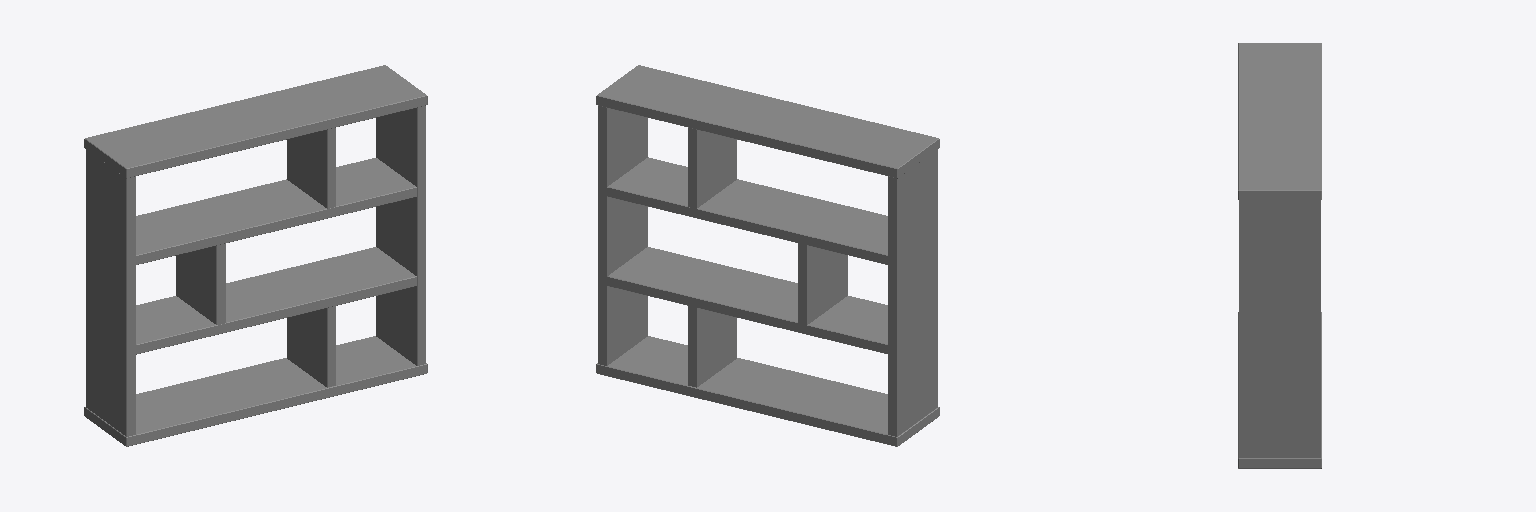
File: Shelf5.obj
The picture shows the model from 3 angles: view 1: azimuth 30°, elevation 25°; view 2: azimuth 150°, elevation 25°; view 3: azimuth 270°, elevation 25°; orthographic projection.
Parts seen in each view (by area): view 1: Shelf5; view 2: Shelf5; view 3: Shelf5.
Boxes of the visible parts, x1=… form: Shelf5: x1=84, y1=65, x2=427, y2=446; Shelf5: x1=596, y1=65, x2=939, y2=446; Shelf5: x1=1238, y1=43, x2=1321, y2=468.
Bounding box in the file's own units: 47.24 × 41.69 × 11.42.